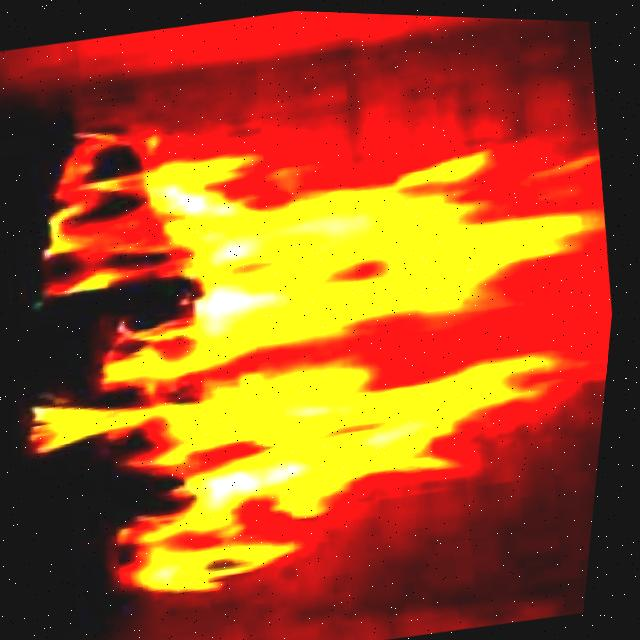Fire: (0, 26, 638, 640)
